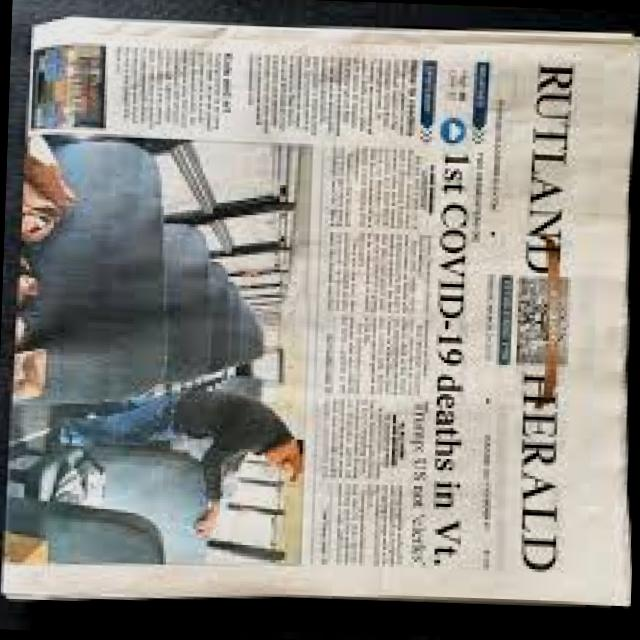paper: (0, 6, 627, 613)
